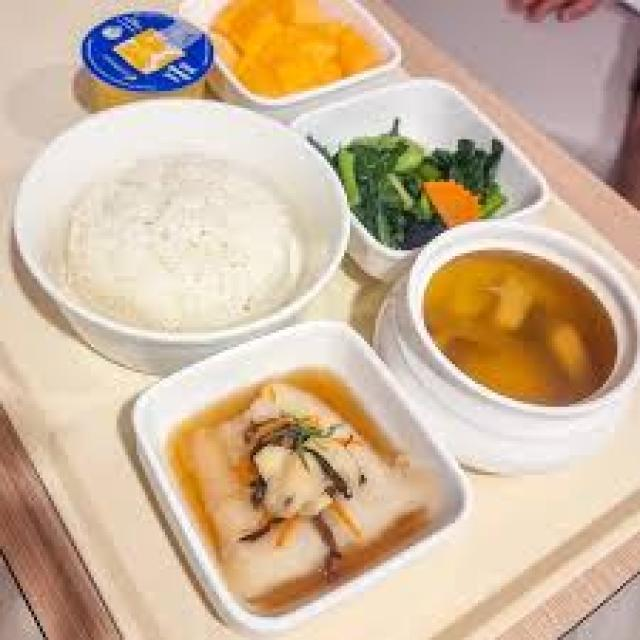Fish: (191, 381, 435, 597)
Fruits: (210, 0, 381, 94)
Green veg: (310, 119, 506, 247)
Non green veg: (421, 179, 478, 225)
Rice: (65, 154, 302, 330)
